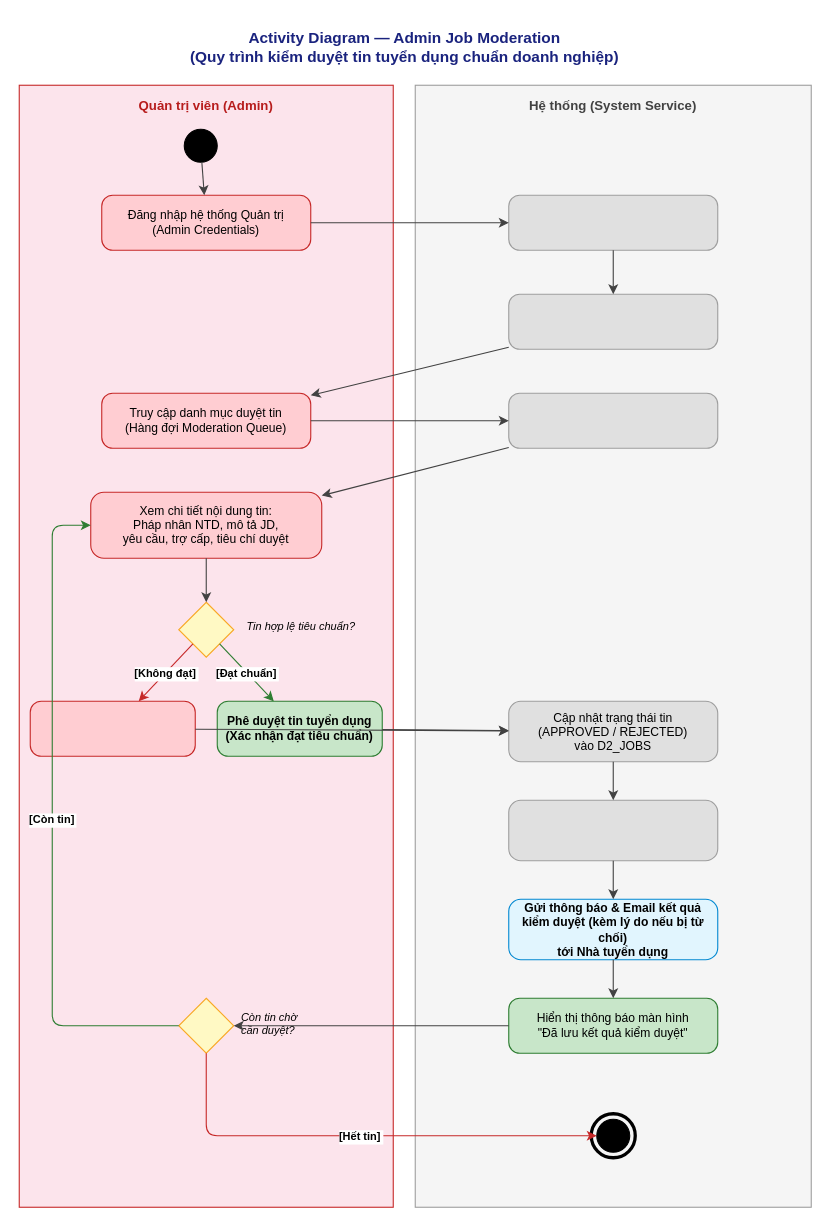
Some shapes in this 831 by 1227 pixel diagram are drawn without their labels. Each missing label, with the centre of its shape:
"Ghi nhật ký hệ thống (Audit Log: Admin ID, Action, Timestamp, Lý do xử lý)" belongs at point (613, 830).
"Lấy danh sách tin tuyển dụng có trạng thái PENDING_APPROVAL" belongs at point (613, 420).
"Tải và hiển thị Dashboard quản trị & số liệu thống kê" belongs at point (613, 321).
"Từ chối tin tuyển dụng (Nhập chi tiết lý do từ chối)" belongs at point (112, 728).
"Xác thực thông tin định danh & kiểm tra phân quyền RBAC" belongs at point (613, 222).
